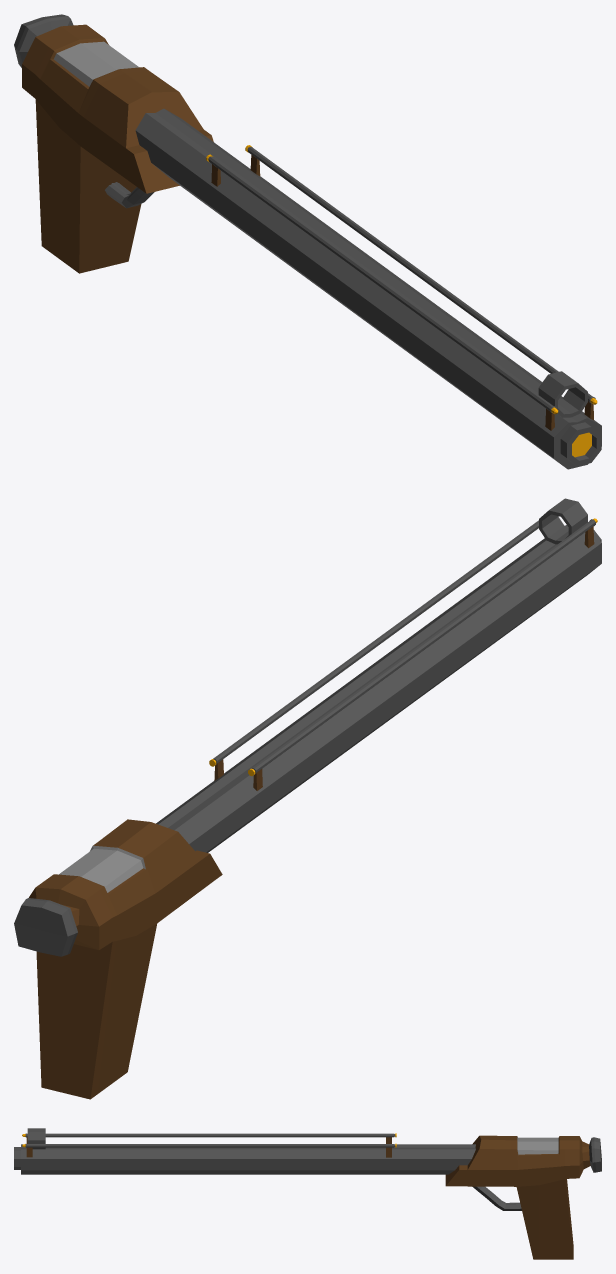
The model's file is Harpoon.fbx.
3 views of the same model, one above another, from view 1: azimuth 30°, elevation 25°; view 2: azimuth 150°, elevation 25°; view 3: azimuth 270°, elevation 25° (orthographic). The views are drawn at different scales.
Visible parts, largest first — view 1: Cube.001; view 2: Cube.001; view 3: Cube.001.
Part boxes in pixels (bbox=[...]): Cube.001: bbox=[14, 14, 601, 469]; Cube.001: bbox=[14, 498, 601, 1099]; Cube.001: bbox=[14, 1128, 601, 1259].
Bounding box in the file's own units: 193 × 539 × 2350.
